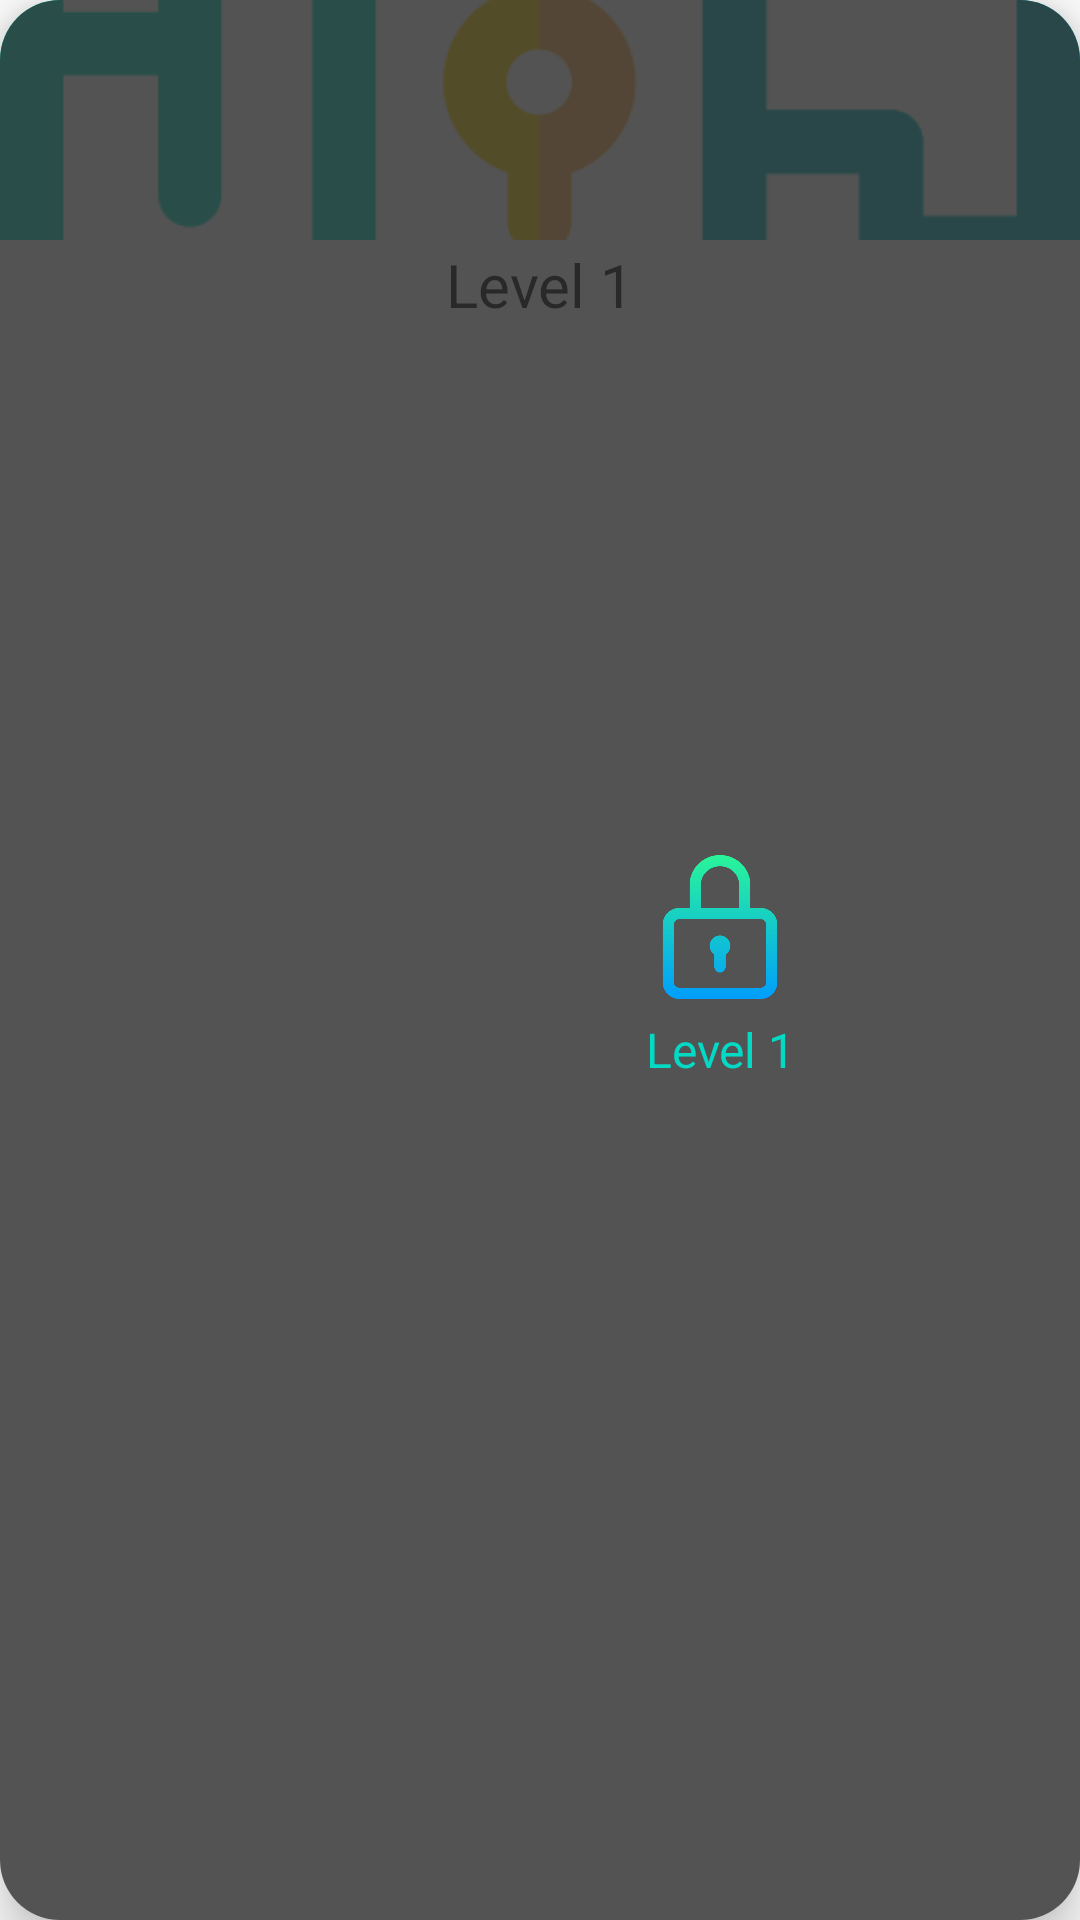

Screen size 1080w x 1920h. Icon name, then its box in pixels as rect(x1, y1, x2, y2):
lock: rect(663, 855, 777, 999)
